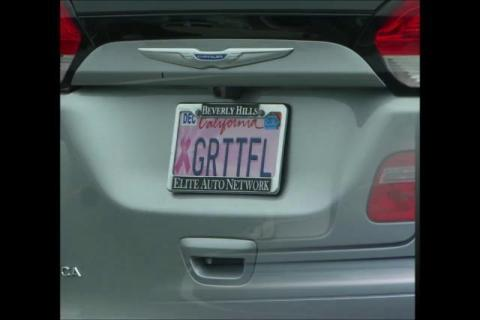LicensePlate: (160, 92, 292, 204)
